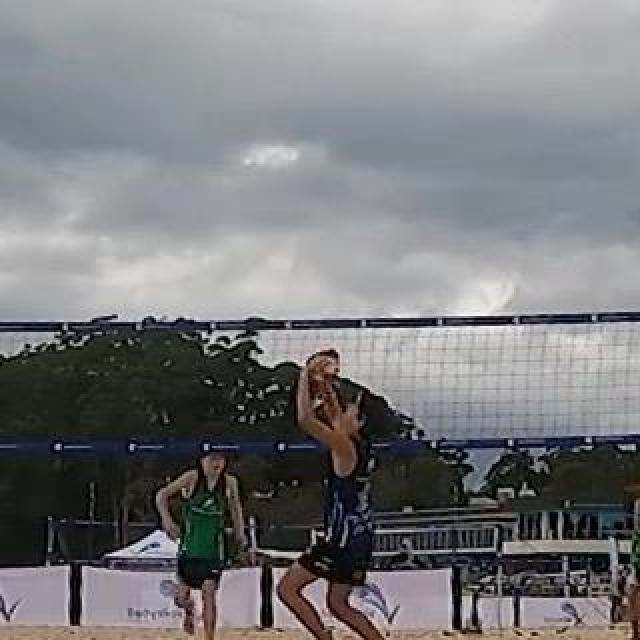volleyball: (305, 344, 341, 384)
